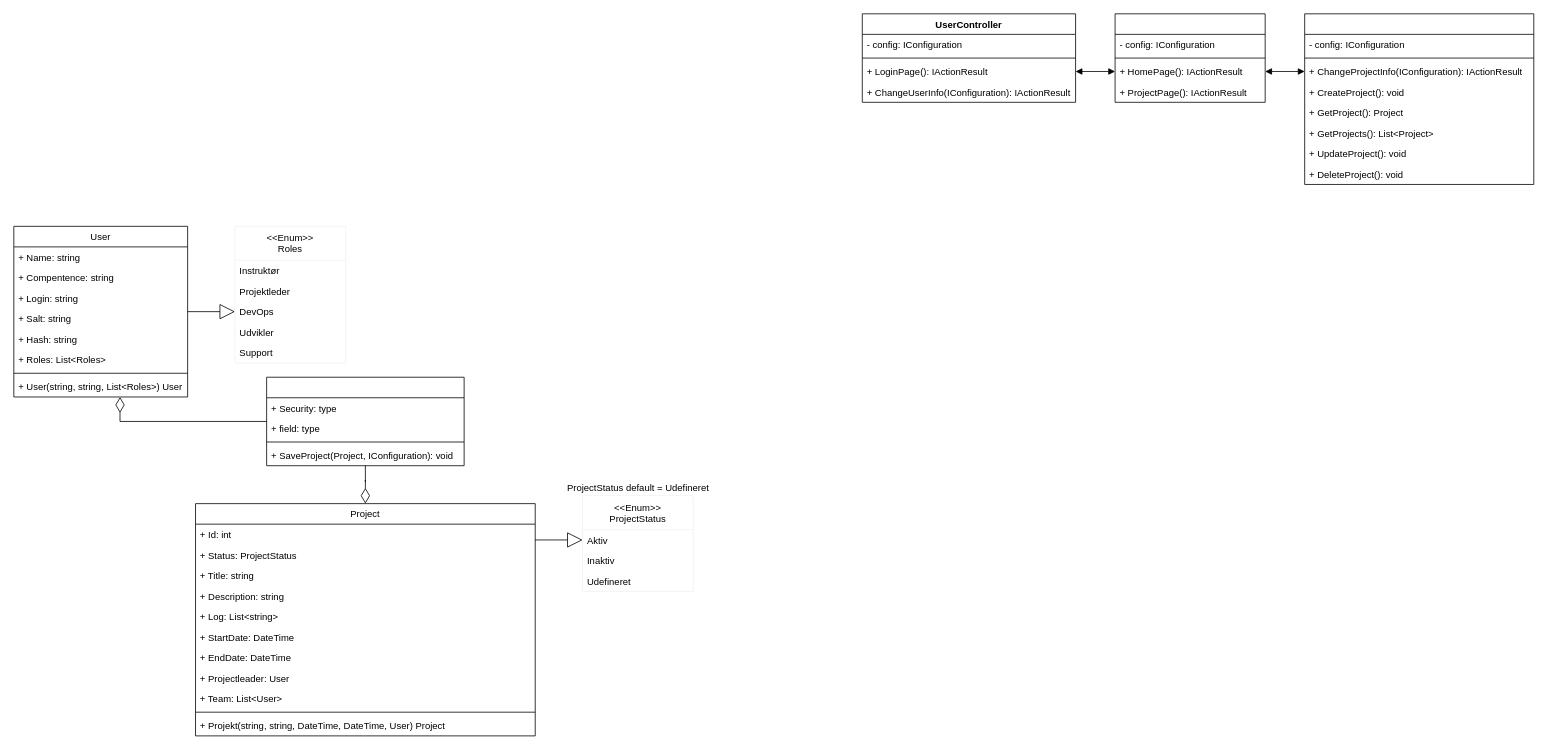
The diagram is 1548 pixels wide and 752 high, and some of its shapes have lost their labels. The shapes that lost their labels are listed below. From the top down, each one's box as (x1, y1, x2, y2) in pixels, then its label:
(1114, 13, 1265, 102): HomeController
(1304, 13, 1534, 184): ProjectController
(266, 376, 464, 466): DBManager
